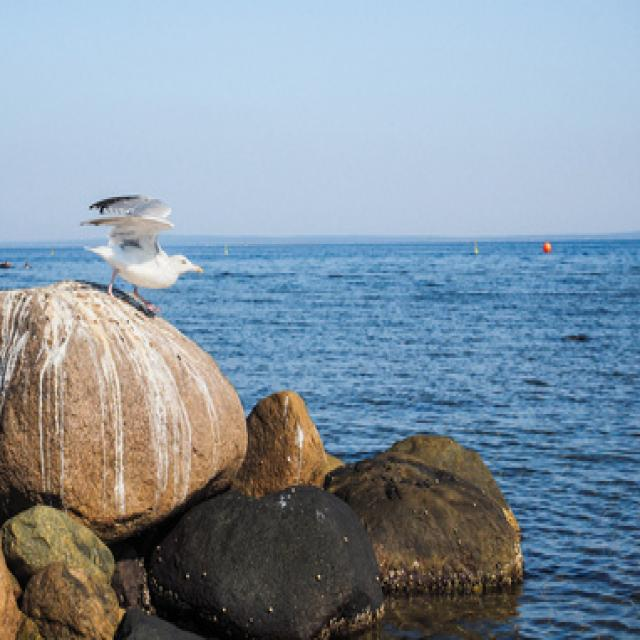reef: (225, 326, 522, 632)
